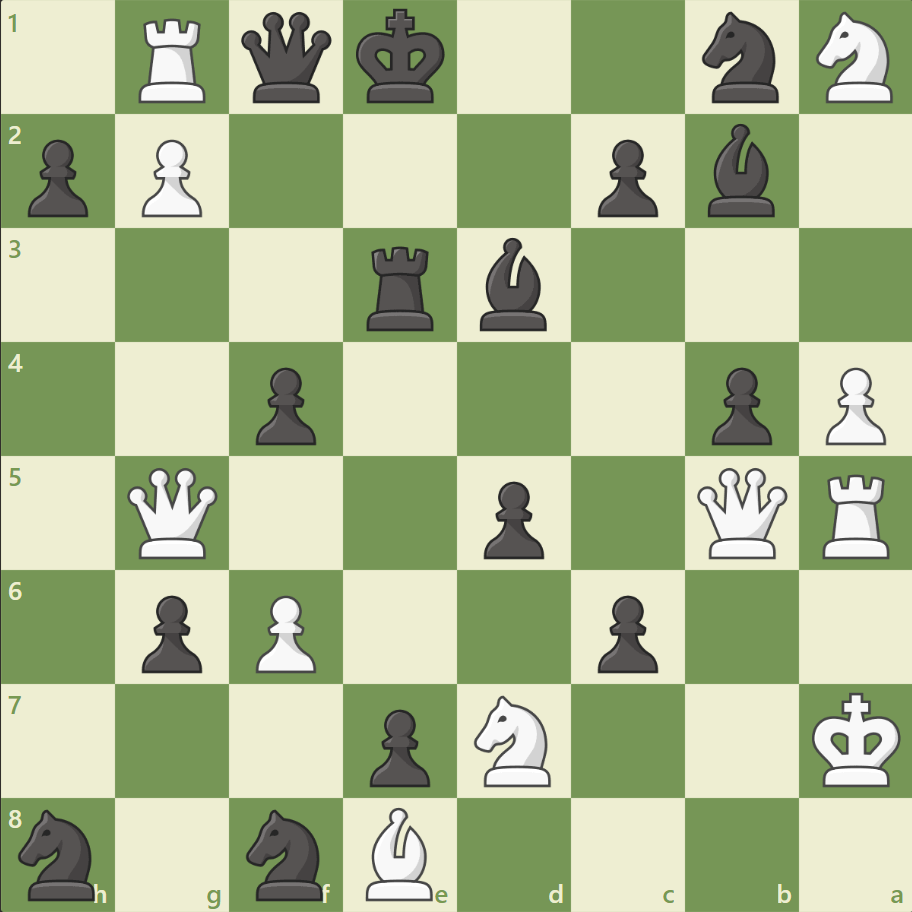B: (358, 801, 442, 904)
K: (806, 685, 906, 793)
N: (465, 688, 562, 791), (806, 7, 903, 110)
P: (247, 586, 322, 677), (133, 132, 208, 223), (815, 359, 889, 450)
Q: (691, 463, 790, 562), (124, 463, 223, 562)
R: (814, 466, 897, 563), (133, 12, 215, 109)
b: (471, 233, 555, 336), (698, 120, 782, 222)
k: (351, 4, 451, 112)
n: (692, 7, 789, 110), (238, 802, 335, 904), (11, 802, 108, 904)
p: (133, 586, 208, 677), (474, 473, 549, 564), (701, 359, 776, 450), (247, 359, 322, 450), (20, 132, 95, 223), (361, 700, 435, 791), (588, 586, 662, 677), (588, 132, 662, 223)
q: (237, 9, 336, 108)
r: (360, 239, 442, 336)
